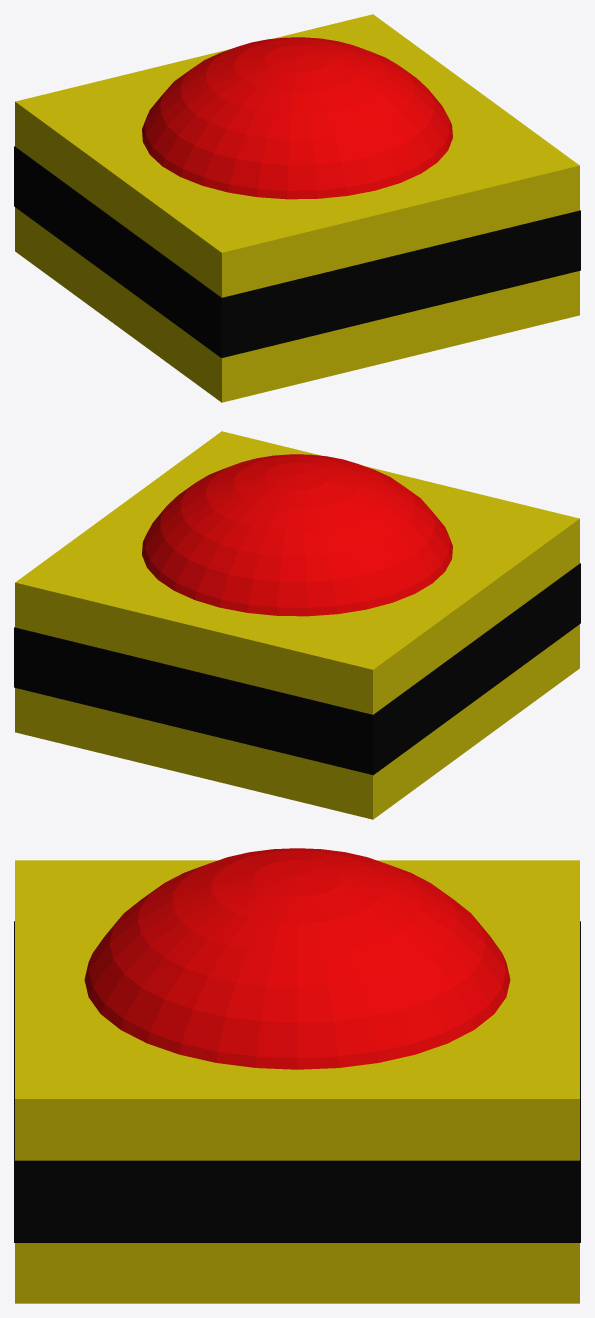
The model's file is botun.fbx.
3 renders of one model, top to bottom at view 1: azimuth 30°, elevation 25°; view 2: azimuth 150°, elevation 25°; view 3: azimuth 270°, elevation 25°, orthographic. The views are drawn at different scales.
Parts seen in each view (by area): view 1: Cube, Sphere, Cube.001; view 2: Cube, Sphere, Cube.001; view 3: Cube, Sphere, Cube.001.
Part boxes in pixels (x1,y1,x2,y2): Cube: (15, 14, 579, 402); Sphere: (142, 37, 452, 199); Cube.001: (14, 146, 580, 358); Cube: (15, 431, 579, 819); Sphere: (142, 454, 452, 616); Cube.001: (14, 563, 580, 775); Cube: (15, 860, 579, 1303); Sphere: (84, 848, 510, 1069); Cube.001: (14, 921, 580, 1242).
Bounding box in the file's own units: 502 × 302 × 502.
